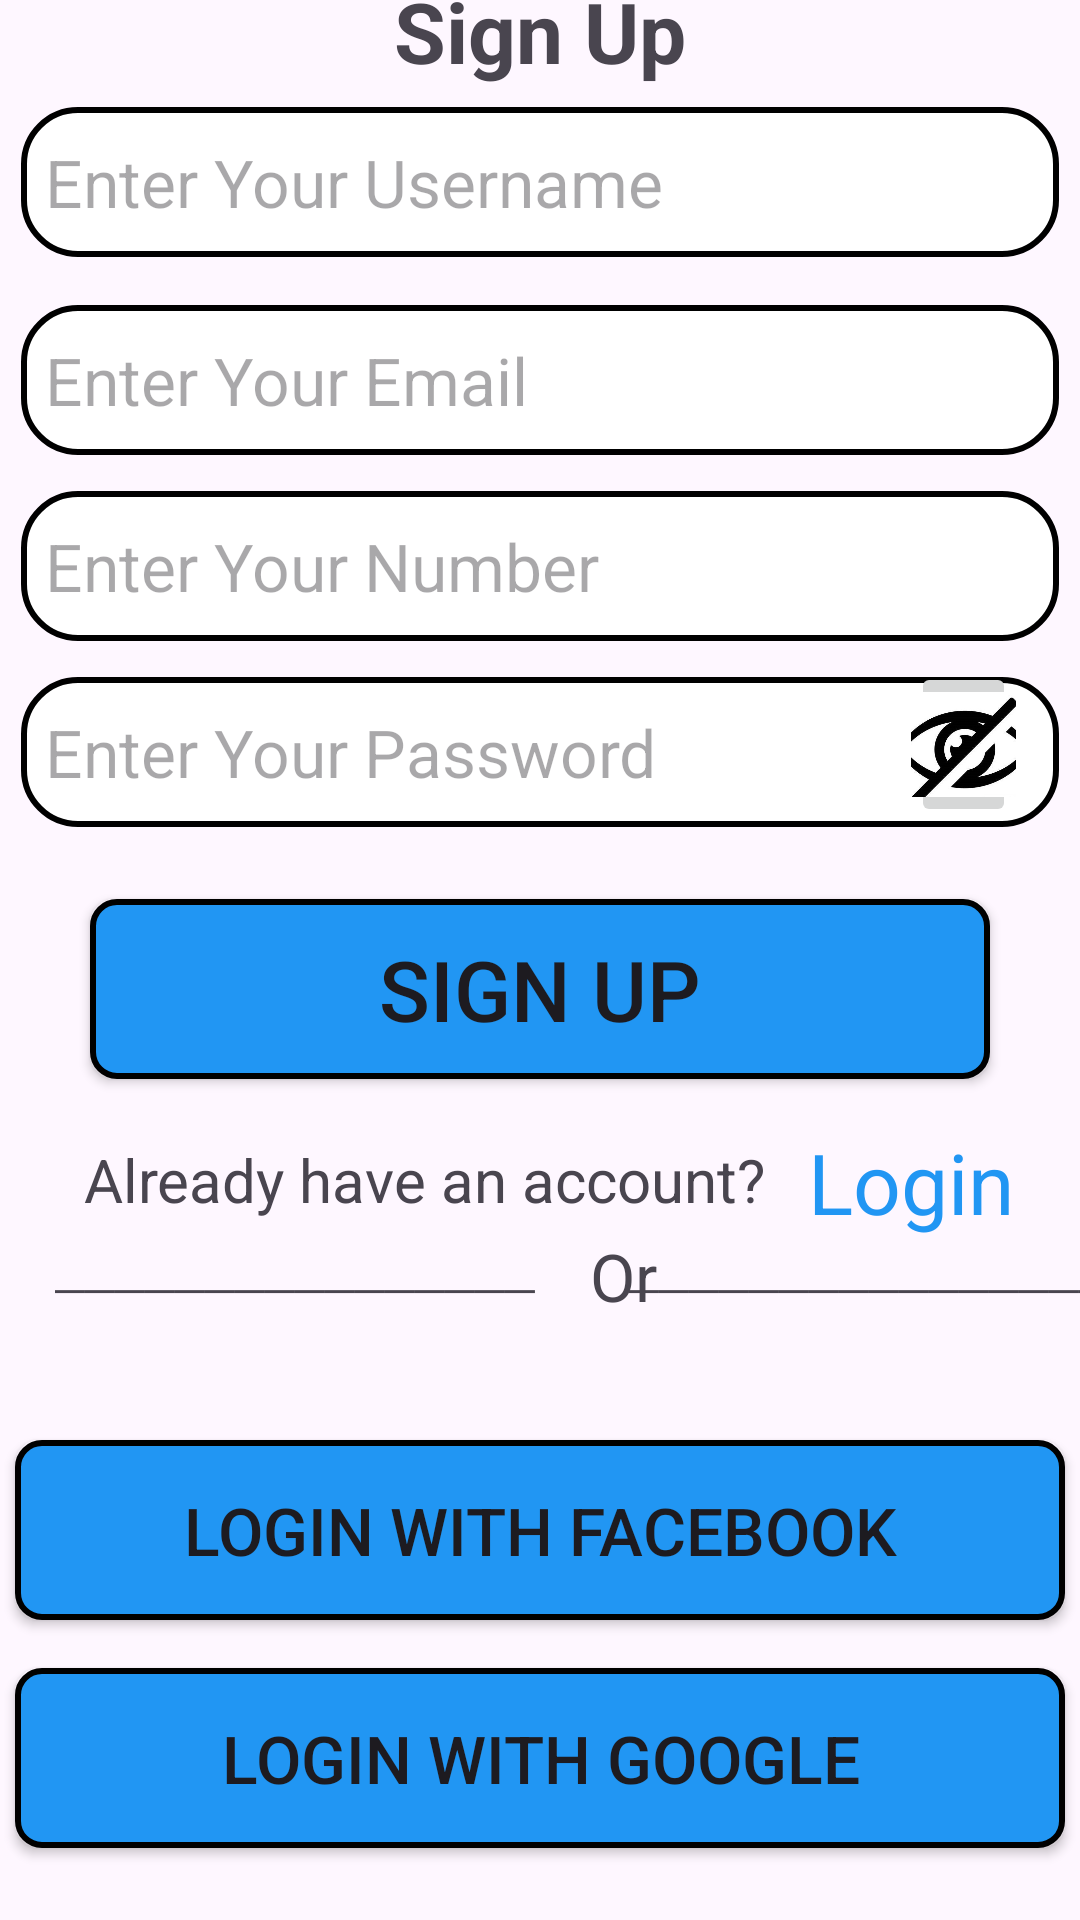

Locate icon controls on the screen. Image size 1080 × 1920, boxes as (x1, y1, x2, y2).
invisible: (911, 697, 1016, 809)
